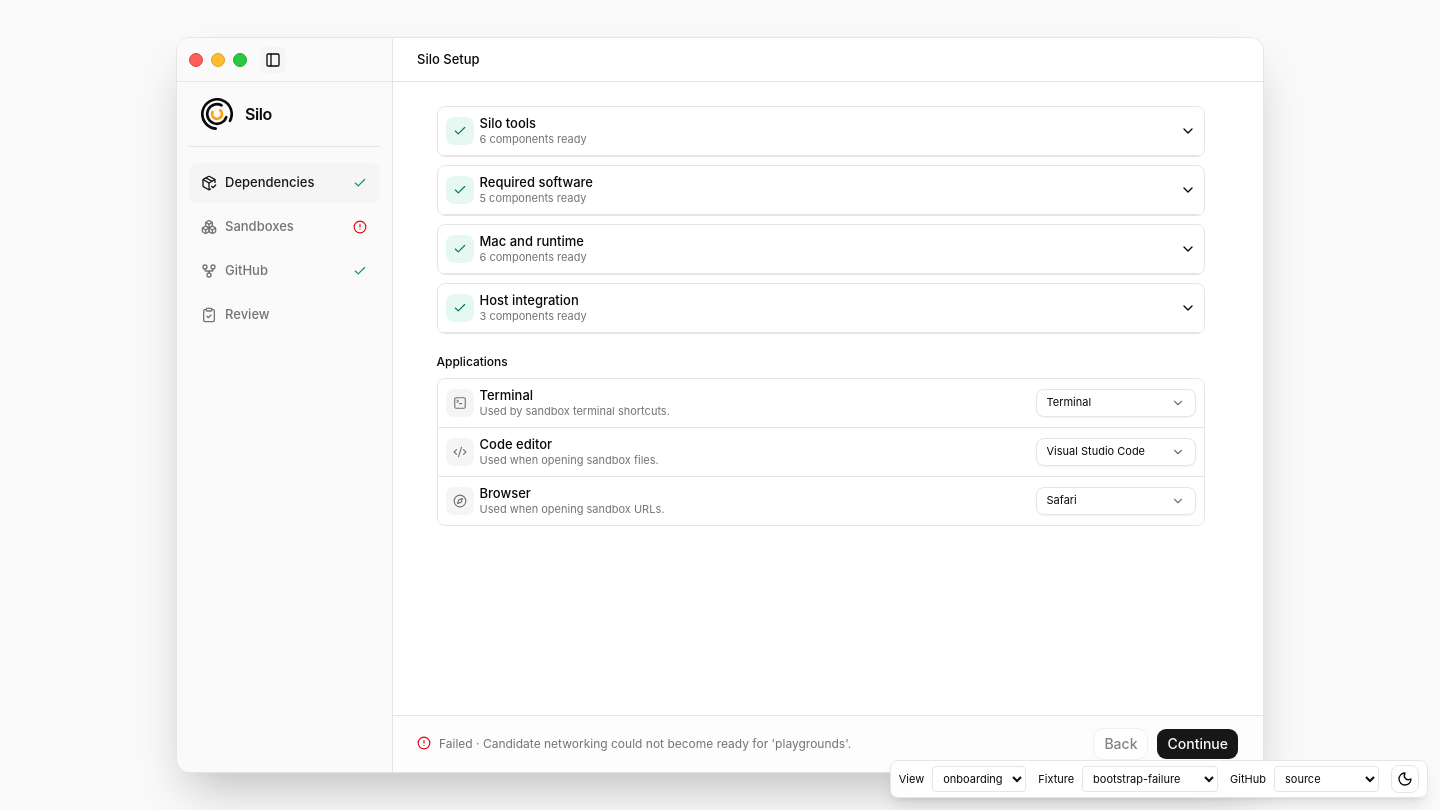
Test: onboarding › presents the bootstrap failure with its exact recovery
What coordinates should you click on to do the following:
click the tab "Review"
I would click on:
 (284, 315)
Its box is [189,295,380,335].
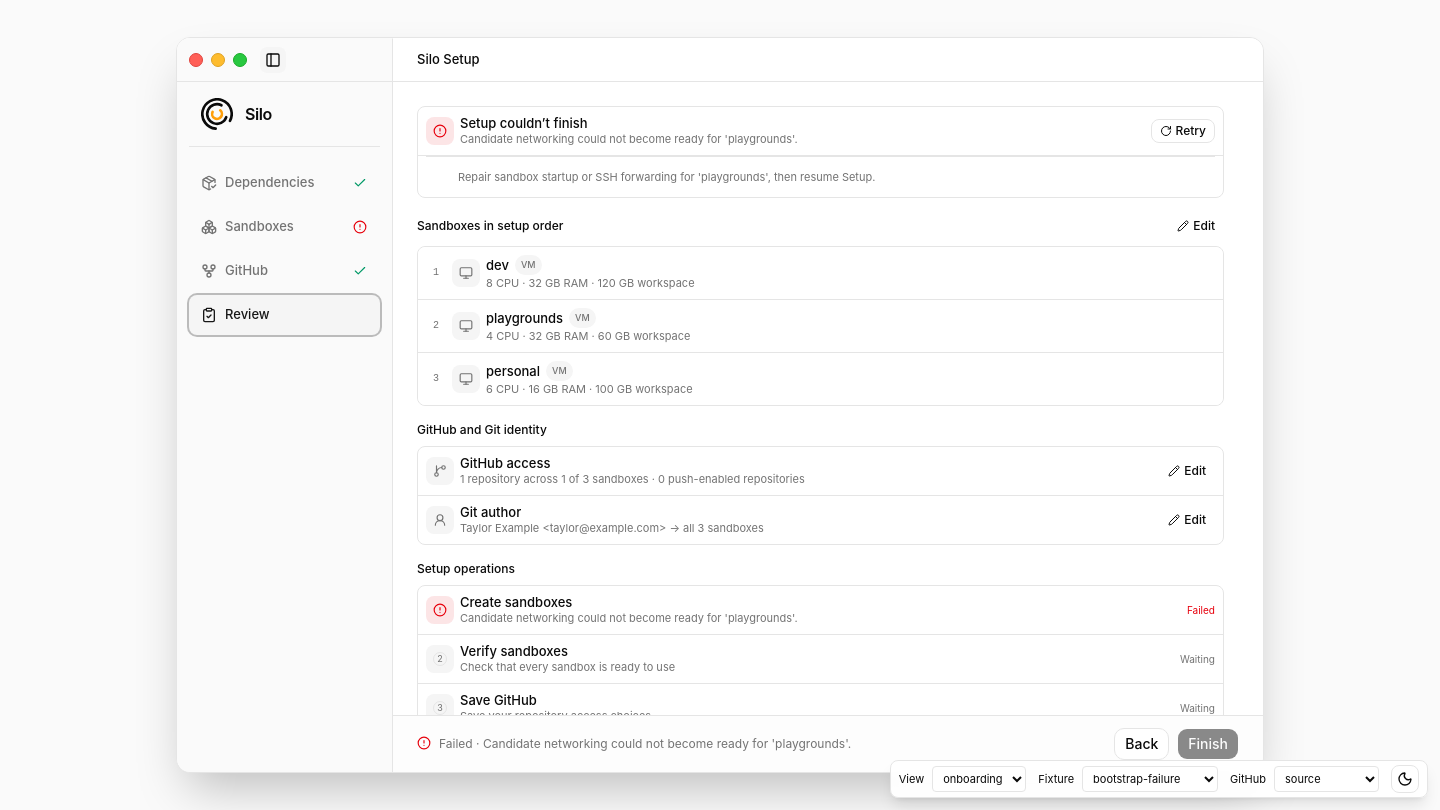
Check: the message shows "Candidate networking could not become ready for 'playgrounds'.", box [460,132,798,146]
Check: the message shows "Repair sandbox startup or SSH forwarding for 'playgrounds', then resume Setup.", box [458,170,875,184]
Check: the button "Finish" is disabled, box [1177,728,1239,760]
